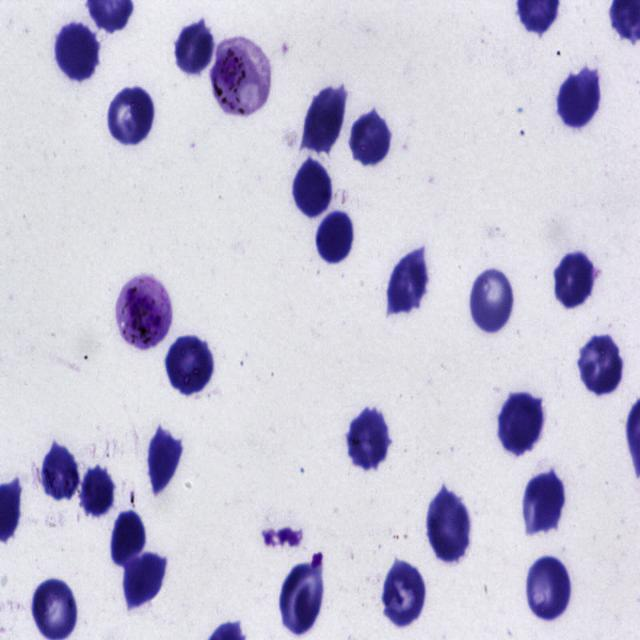difficult: (212, 37, 270, 117)
red blood cell: (426, 490, 472, 565), (379, 558, 426, 630), (524, 557, 574, 624), (280, 560, 324, 635), (468, 269, 514, 334), (108, 85, 154, 149), (578, 332, 623, 397), (498, 392, 545, 454), (32, 578, 78, 640), (523, 468, 566, 534), (348, 407, 392, 470), (553, 251, 598, 312), (387, 248, 427, 316), (304, 90, 346, 154), (558, 68, 602, 129), (122, 550, 168, 608), (56, 23, 100, 83), (146, 425, 182, 496), (168, 334, 212, 391), (349, 111, 393, 167), (292, 158, 330, 220), (174, 22, 216, 78), (41, 444, 81, 502), (110, 510, 148, 567), (315, 210, 355, 264), (80, 466, 117, 516)
schizont: (114, 274, 173, 350)
